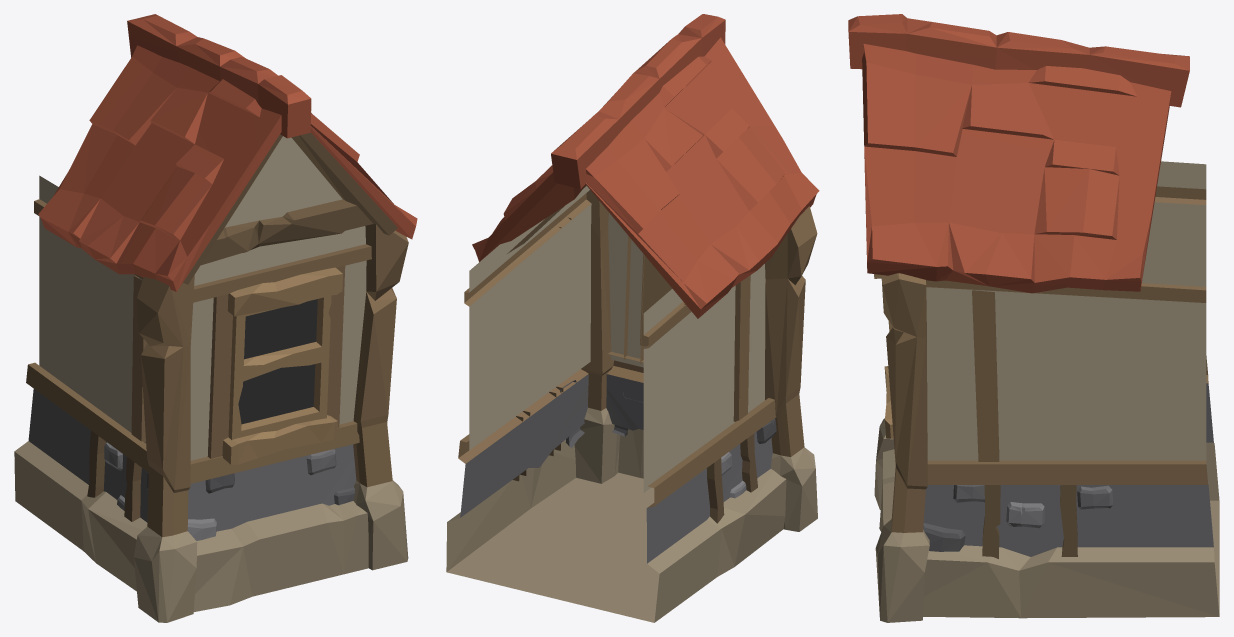
File: SM_Bld_House_Window_01.gltf
The picture shows the model from 3 angles, left to right: view 1: azimuth 30°, elevation 25°; view 2: azimuth 150°, elevation 25°; view 3: azimuth 270°, elevation 25°; orthographic projection. The views are drawn at different scales.
Parts seen in each view (by area): view 1: SM_Bld_House_Window_01; view 2: SM_Bld_House_Window_01; view 3: SM_Bld_House_Window_01.
Boxes of the visible parts, x1=… form: SM_Bld_House_Window_01: x1=14, y1=14, x2=417, y2=622; SM_Bld_House_Window_01: x1=446, y1=14, x2=819, y2=622; SM_Bld_House_Window_01: x1=848, y1=14, x2=1219, y2=622.
Bounding box in the file's own units: 2.14 × 3.94 × 2.47.
Materials: 1 (1 with a texture image).
